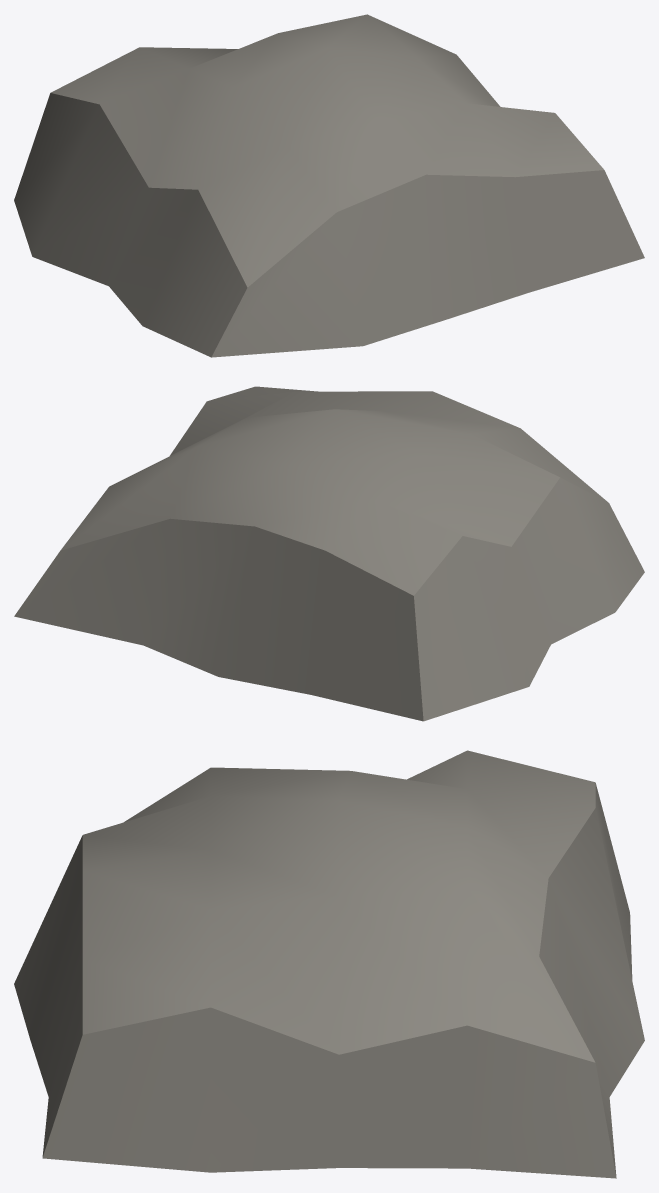
File: Rock4.FBX
The picture shows the model from 3 angles, top to bottom: view 1: azimuth 30°, elevation 25°; view 2: azimuth 150°, elevation 25°; view 3: azimuth 270°, elevation 25°; orthographic projection. The views are drawn at different scales.
Parts seen in each view (by area): view 1: Box001; view 2: Box001; view 3: Box001.
Boxes of the visible parts, x1,y1,x2,y2 form: Box001: (14, 14, 644, 357); Box001: (14, 386, 644, 721); Box001: (14, 750, 644, 1178).
Bounding box in the file's own units: 44.37 × 16.87 × 40.25.
